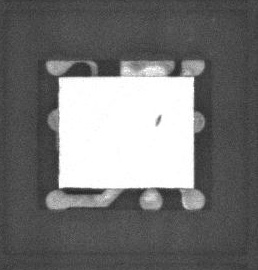DIE_INK: (147, 119, 156, 133)
